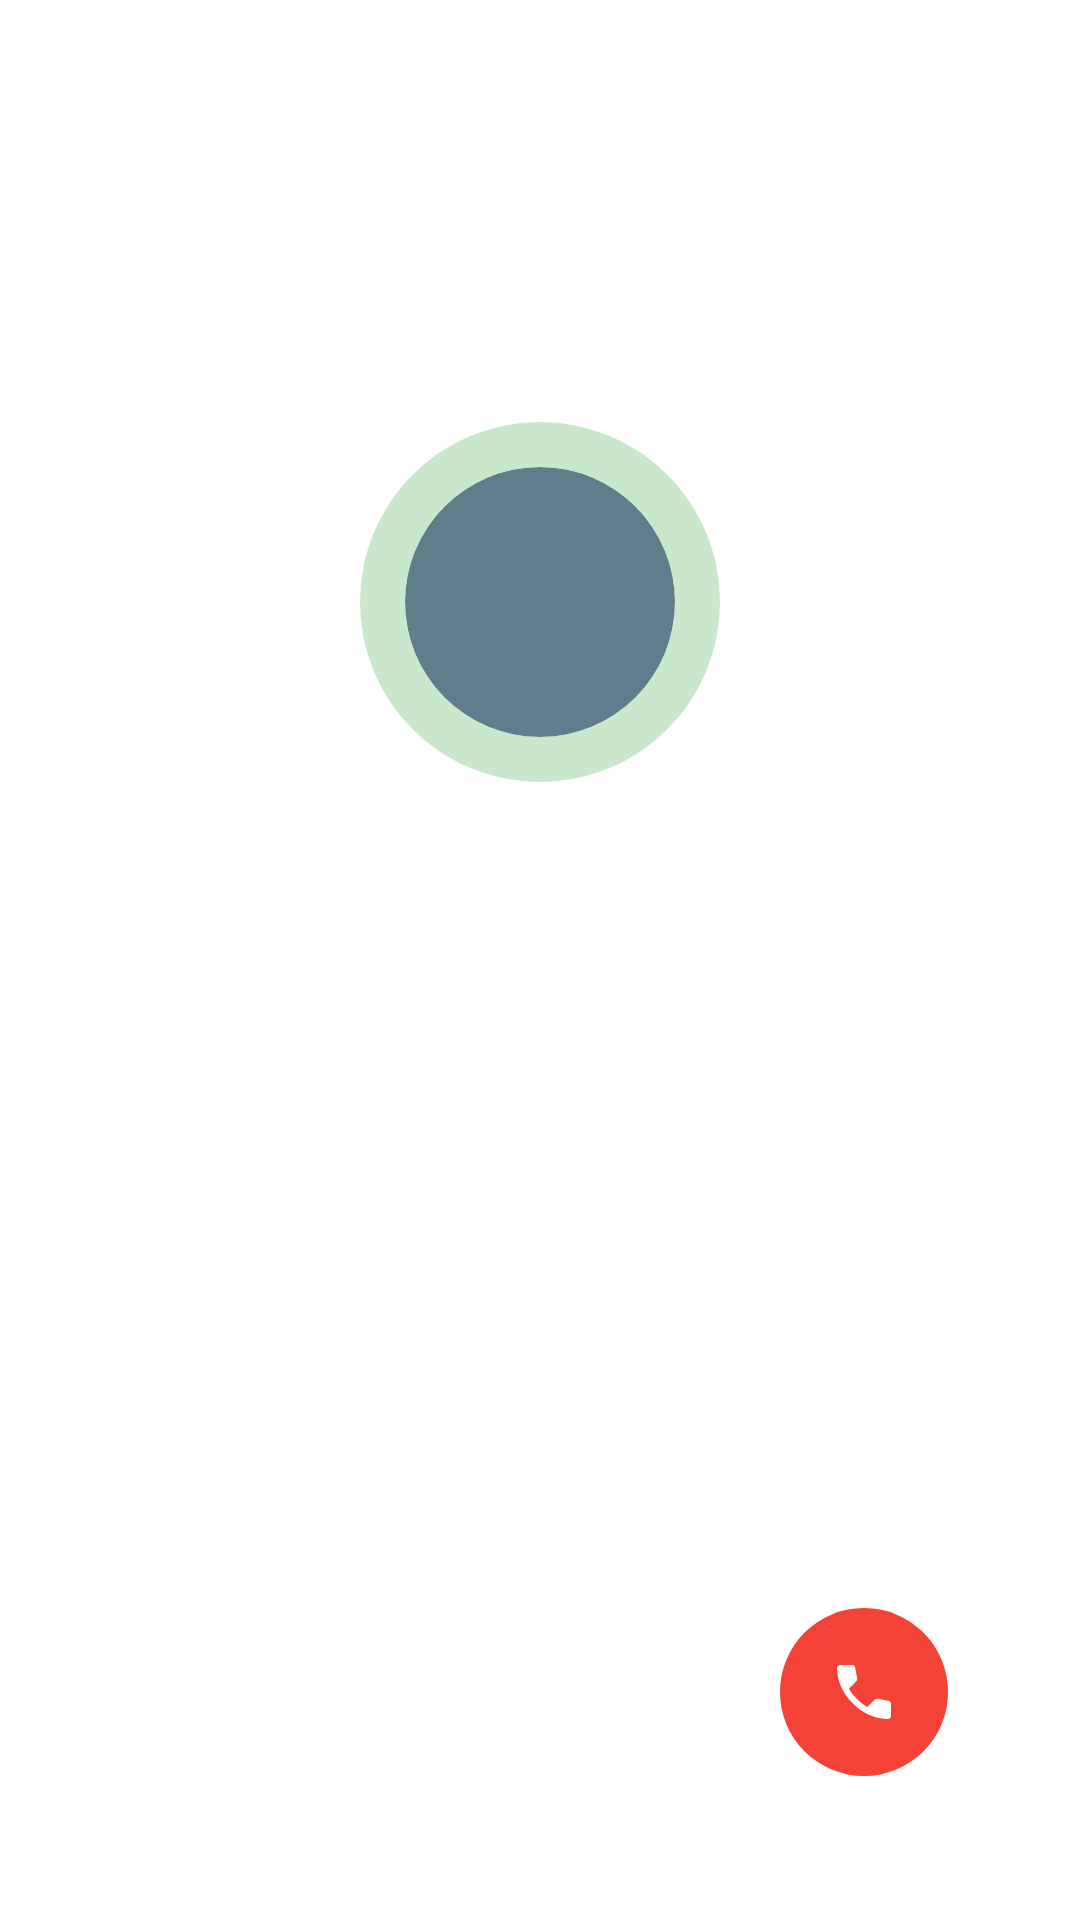

Icons on this 1080 x 1920 Android screen, each with the point to tap as (x,y):
End call: (864,1692)
